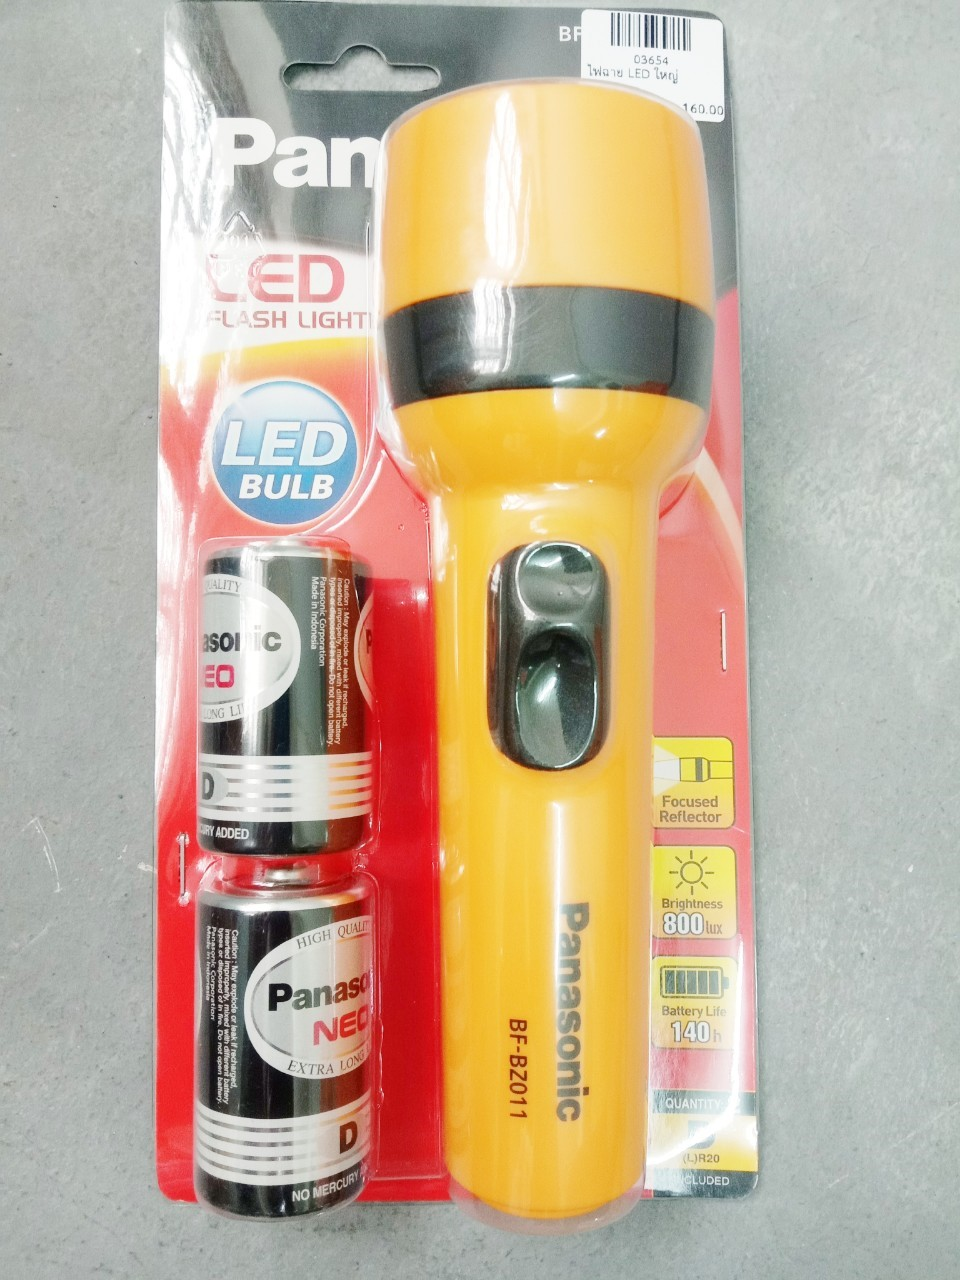Battery: (196, 868, 375, 1222), (196, 548, 371, 854)
